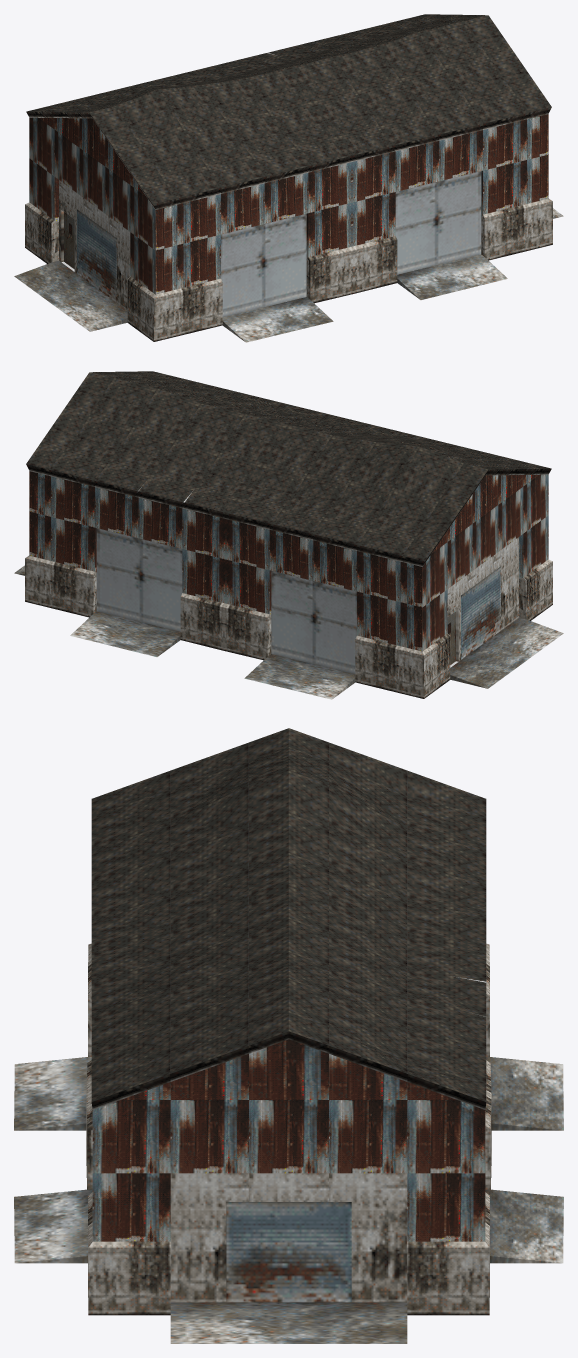
Rendered from psxps1_big_warehouse.glb.
3 views of the same model, one above another, from view 1: azimuth 30°, elevation 25°; view 2: azimuth 150°, elevation 25°; view 3: azimuth 270°, elevation 25° (orthographic). The views are drawn at different scales.
Parts seen in each view (by area): view 1: bigWarehouse, bigWarehouse_Ramps; view 2: bigWarehouse, bigWarehouse_Ramps; view 3: bigWarehouse, bigWarehouse_Ramps.
Boxes of the visible parts, left/top/right/bottom form: bigWarehouse: left=25, top=14, right=552, bottom=341; bigWarehouse_Ramps: left=14, top=208, right=563, bottom=342; bigWarehouse: left=25, top=371, right=552, bottom=698; bigWarehouse_Ramps: left=14, top=565, right=563, bottom=699; bigWarehouse: left=86, top=728, right=491, bottom=1315; bigWarehouse_Ramps: left=14, top=1057, right=563, bottom=1343.
Size of what is drawn, in the model's own units: 21.71 by 8.25 by 14.01.
Materials: 1 (1 with a texture image).
